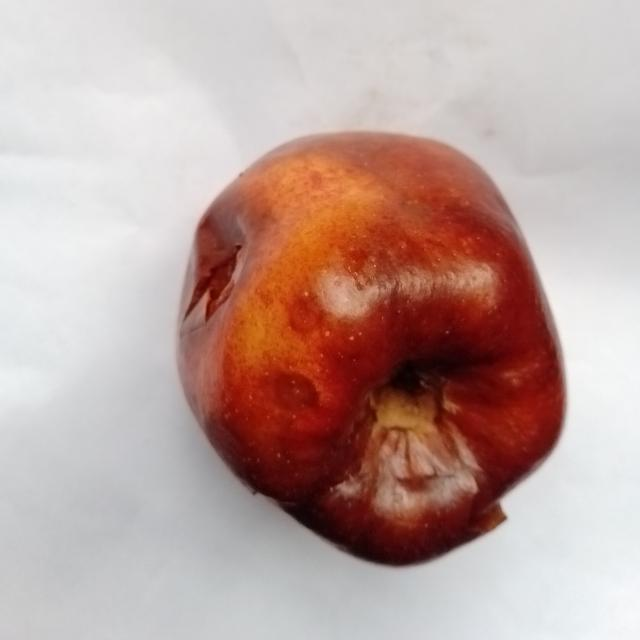apple: (180, 133, 564, 564)
